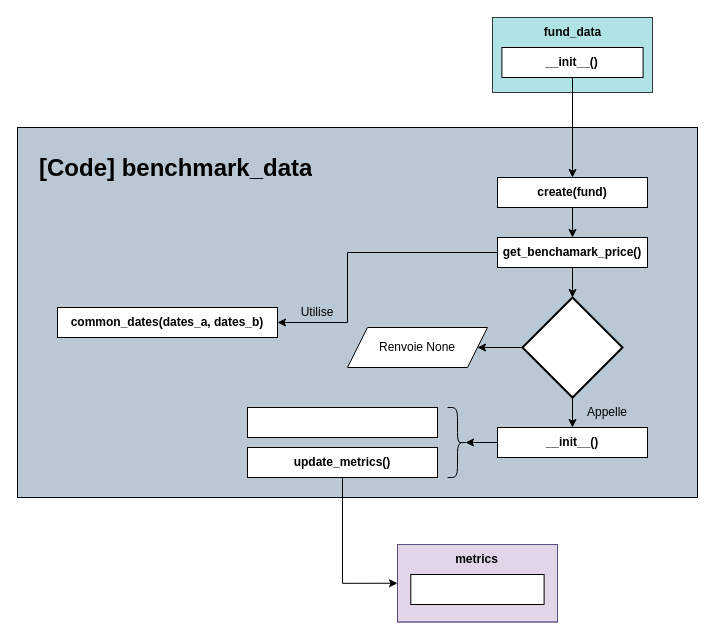
The diagram is 715 pixels wide and 640 high, and some of its shapes have lost their labels. The box of each missing label's shape, as (x1, y1, x2, y2) in pixels:
__init__(id): (410, 574, 544, 604)
get_benchmark_composition(): (246, 406, 438, 438)
Historique de prix disponible ?: (521, 296, 623, 398)
